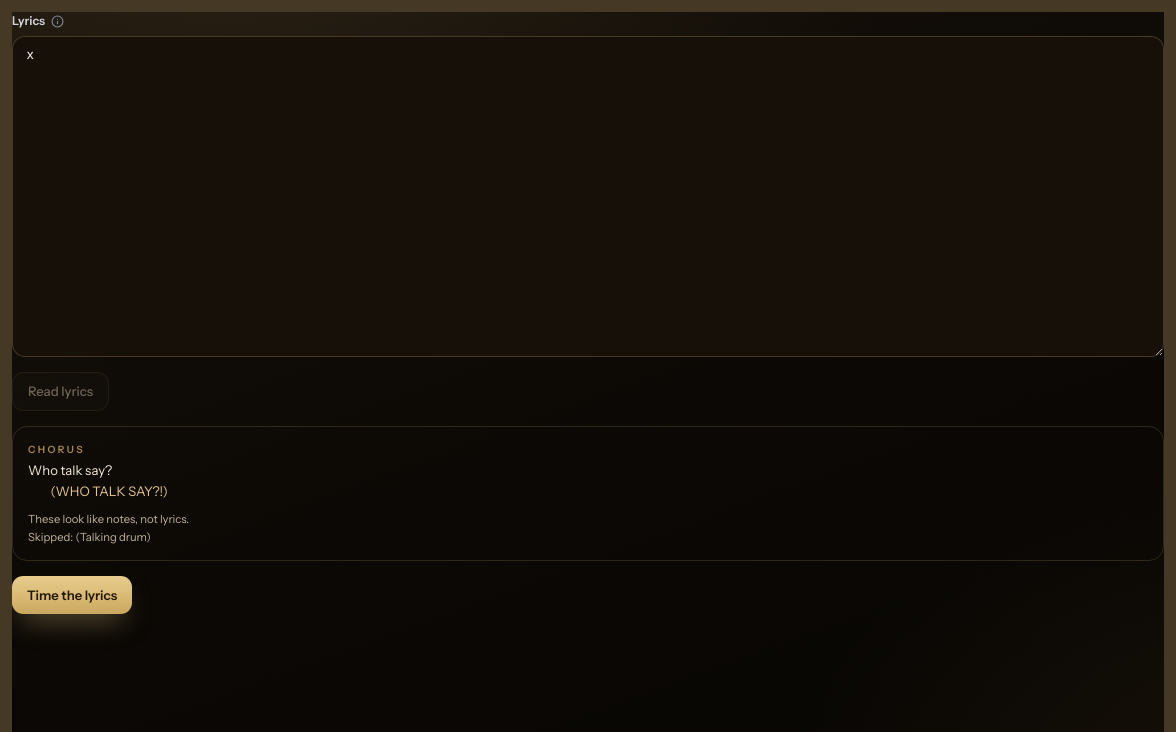
Test: LyricsStep › asks to read the lyrics again after they are edited
Replace the text in the text box with "something new". click: (588, 196)
box: [12,36,1164,357]
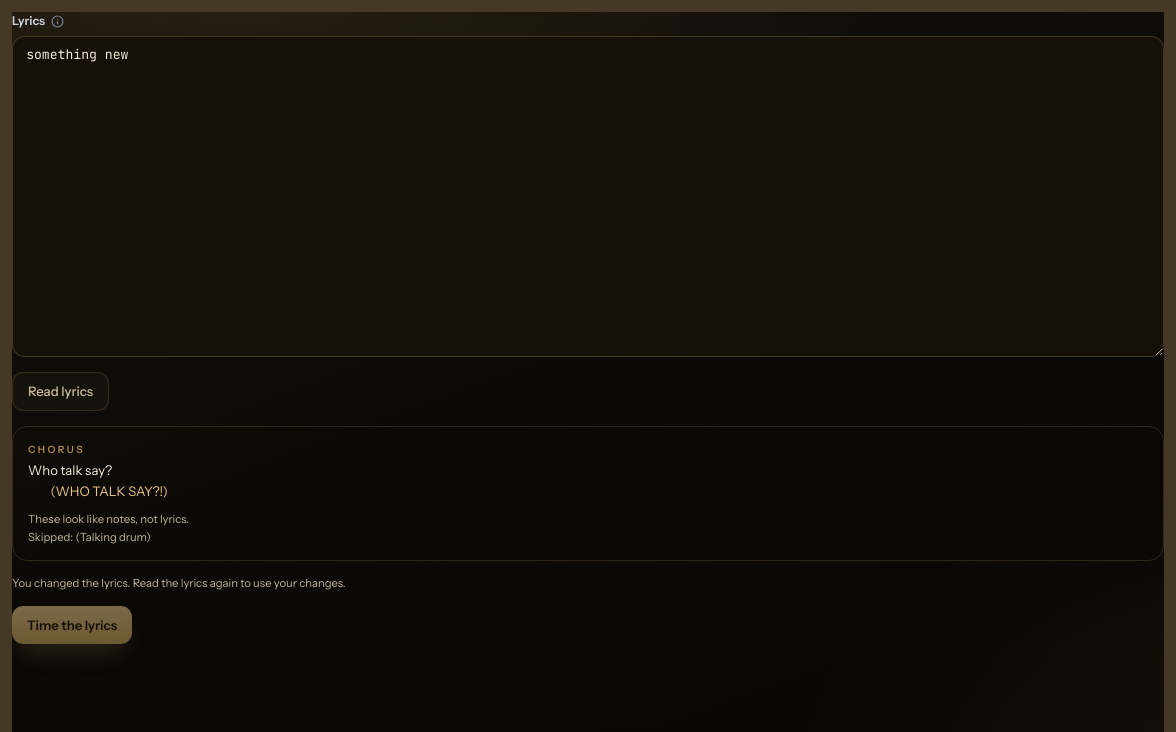
Now the button "Time the lyrics" is disabled, box [12,606,132,644]
Now the text "Read the lyrics again" is shown, box [12,576,346,590]
